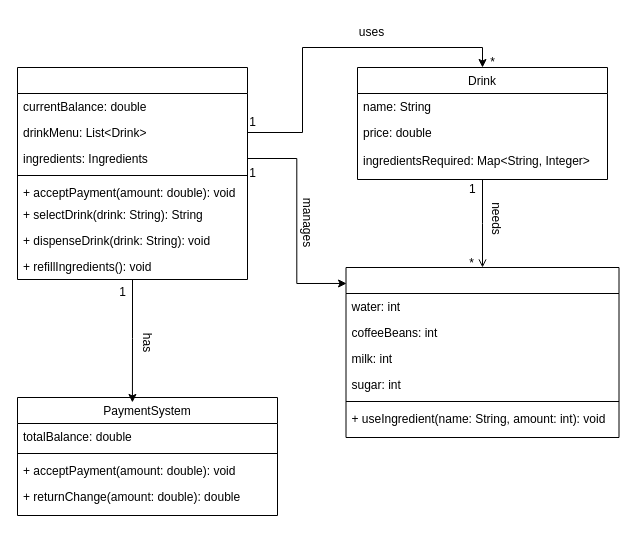
Some shapes in this 637 by 535 pixel diagram are drawn without their labels. Each missing label, with the box of its shape:
CoffeeMachine: (16, 66, 248, 280)
Ingredients: (345, 266, 619, 438)
